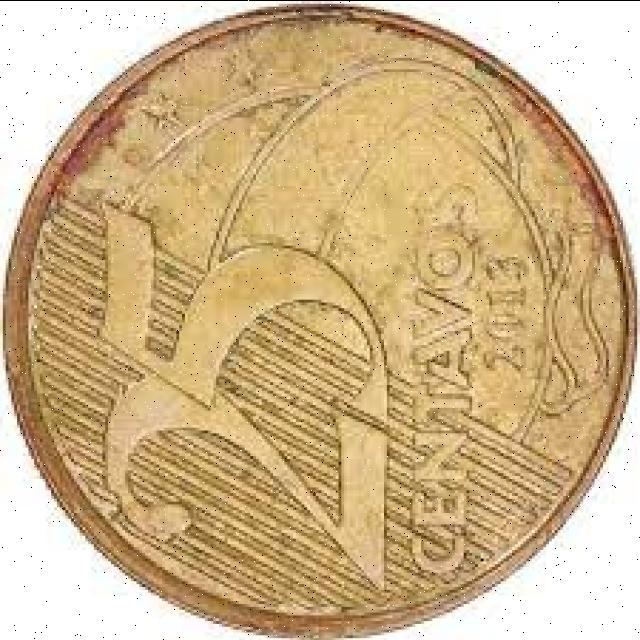25 cent: (0, 2, 595, 640)
